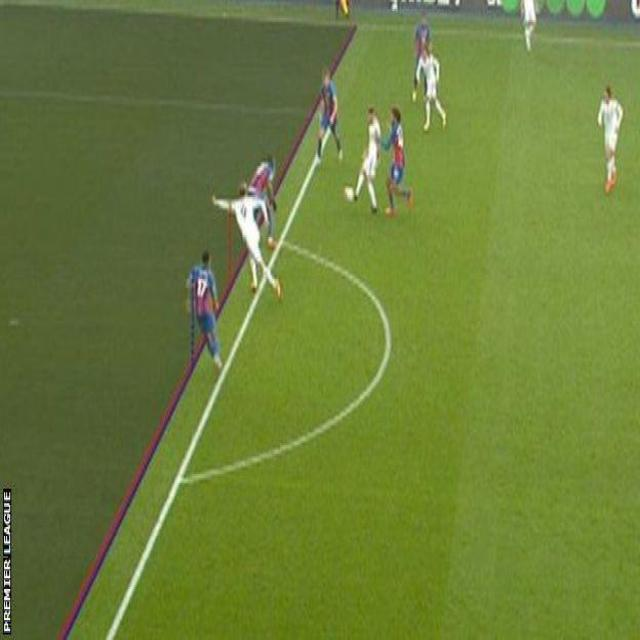offside: (177, 0, 273, 382)
